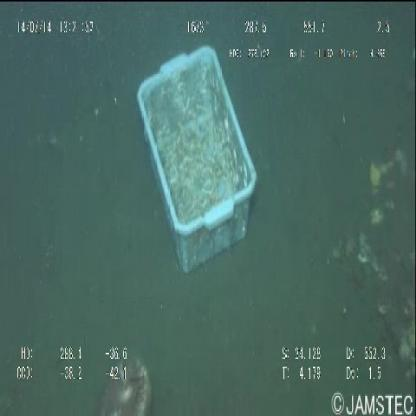Rác: (127, 37, 260, 291)
